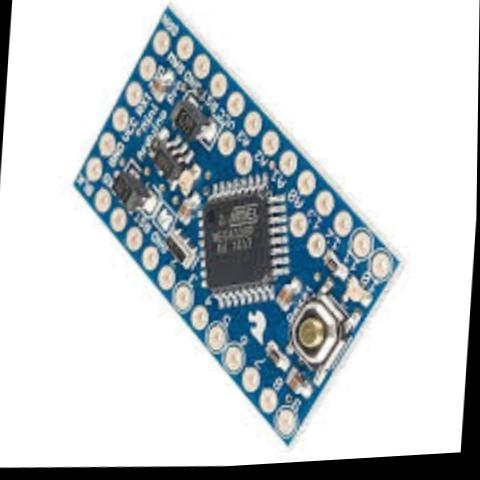Arduino-Pro-Mini: (43, 0, 435, 473)
